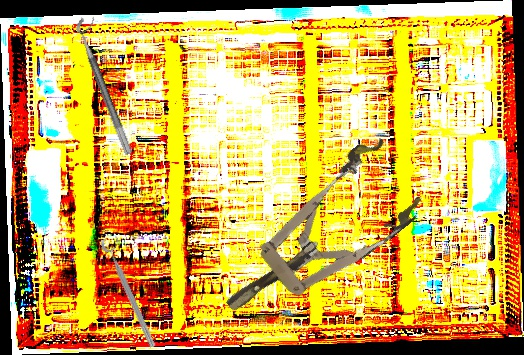Fixation Ring: (72, 13, 145, 156), (99, 233, 165, 350)
Speculum: (199, 131, 434, 343)
